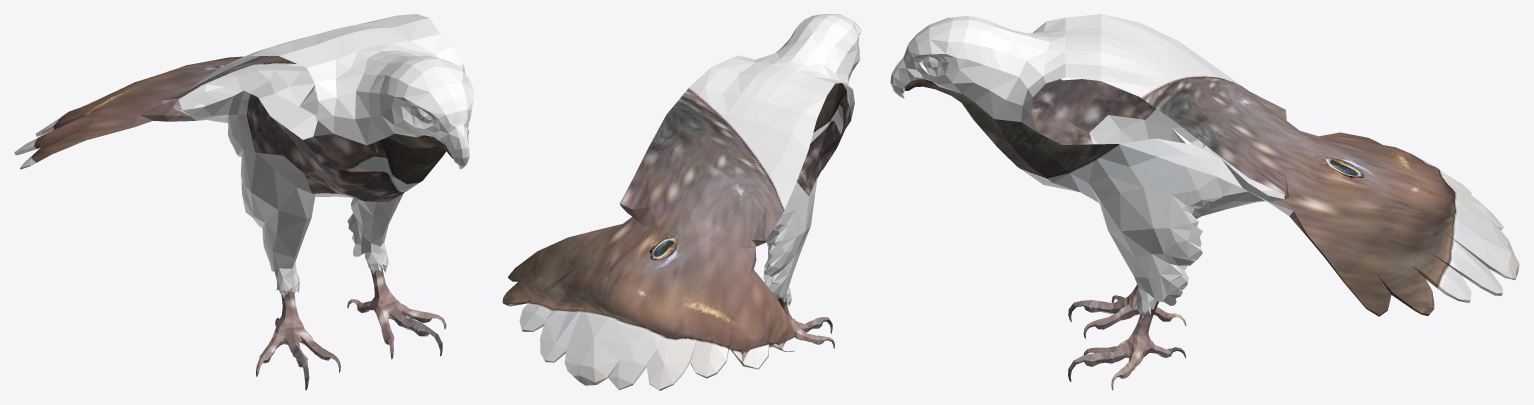
File: cuerpo.obj
3 views of the same model, side by side, from view 1: azimuth 30°, elevation 25°; view 2: azimuth 150°, elevation 25°; view 3: azimuth 270°, elevation 25° (orthographic). The views are drawn at different scales.
Parts seen in each view (by area): view 1: polySurface9polySurface5Mesh; view 2: polySurface9polySurface5Mesh; view 3: polySurface9polySurface5Mesh.
Part boxes in pixels (bbox=[...]): polySurface9polySurface5Mesh: bbox=[14, 14, 473, 390]; polySurface9polySurface5Mesh: bbox=[502, 14, 861, 390]; polySurface9polySurface5Mesh: bbox=[890, 14, 1519, 390].
Bounding box in the file's own units: 0.9541 × 0.8627 × 1.48.
